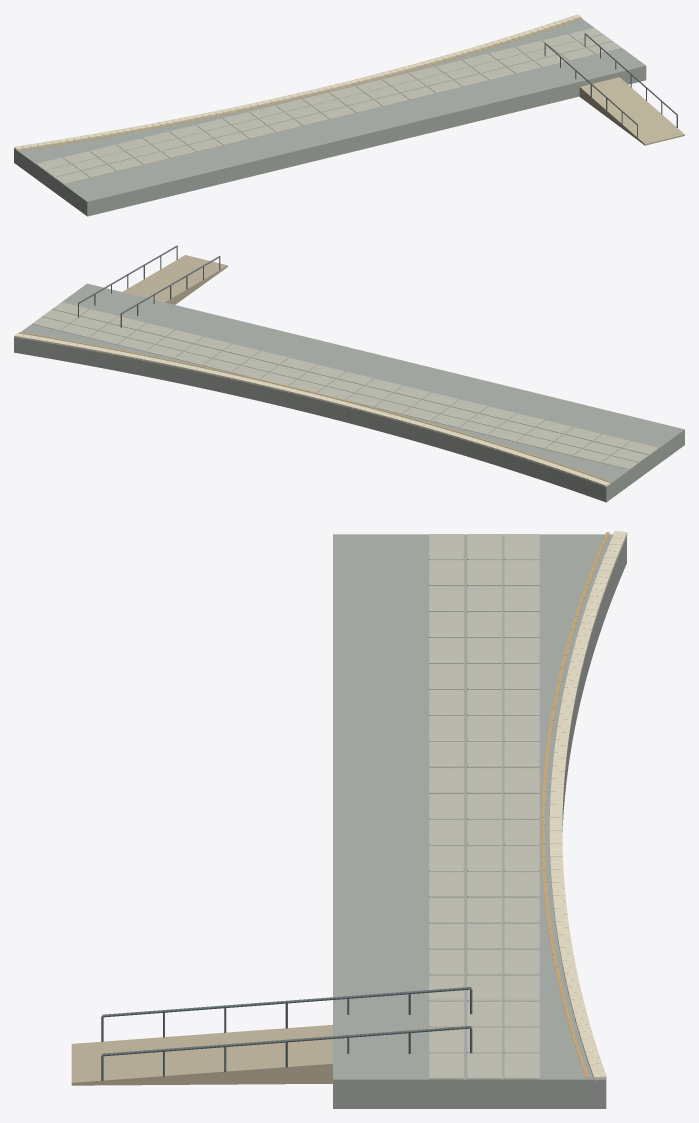
Rendered from SM_Platform.fbx.
The picture shows the model from 3 angles, top to bottom: view 1: azimuth 30°, elevation 25°; view 2: azimuth 150°, elevation 25°; view 3: azimuth 270°, elevation 25°; orthographic projection. The views are drawn at different scales.
Visible parts, largest first — view 1: SM_Platform; view 2: SM_Platform; view 3: SM_Platform.
Part boxes in pixels (x1,y1,x2,y2): SM_Platform: [14, 14, 684, 216]; SM_Platform: [14, 245, 684, 502]; SM_Platform: [71, 531, 627, 1108].
Size of the model in its own units: 4205 by 1808 by 214.
